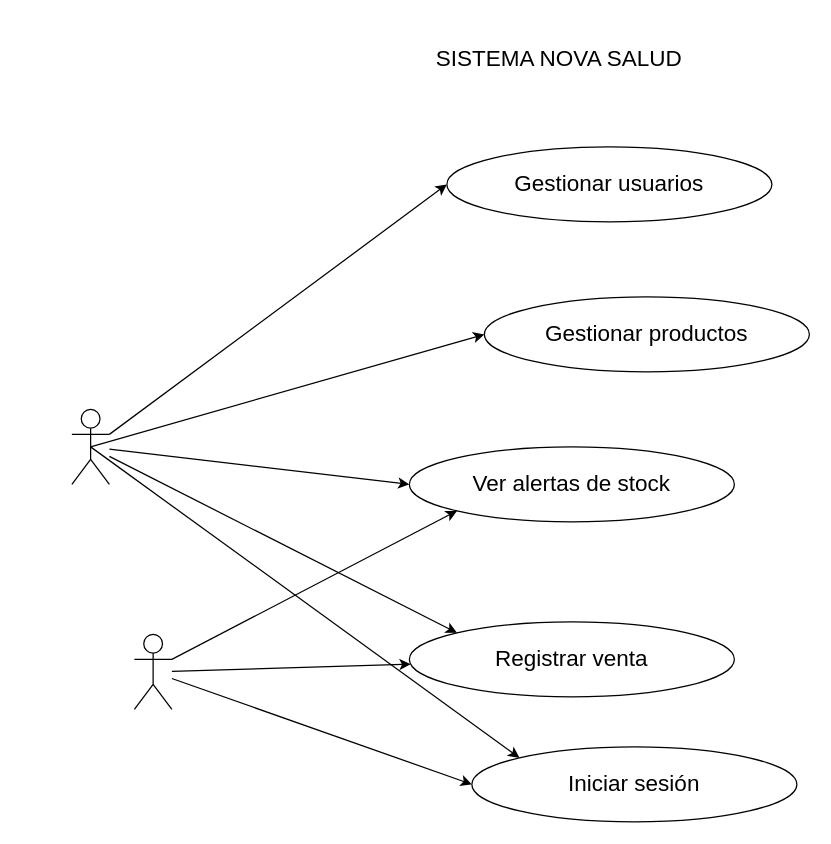
Image size: 831x844. Some labels were removed from this diagram. Each missing label, with the centre of its shape:
"Administrador" belongs at (x=90, y=446).
"Vendedor" belongs at (x=152, y=671).
